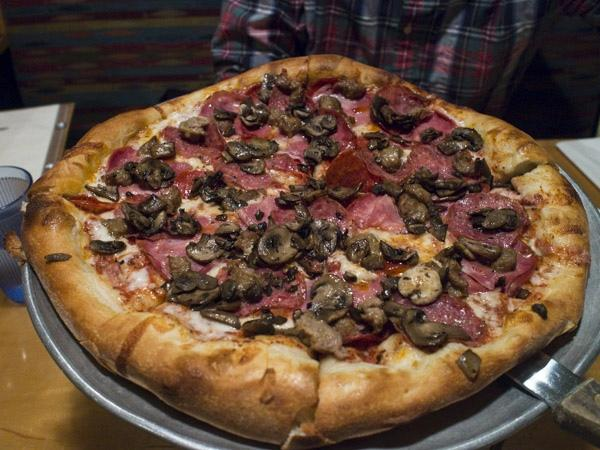mushroom: (382, 302, 468, 348), (295, 312, 351, 360), (419, 246, 467, 293), (309, 274, 352, 318), (398, 266, 442, 306), (370, 95, 416, 132), (258, 225, 298, 264), (407, 166, 464, 193), (167, 286, 220, 312), (456, 236, 503, 265), (186, 233, 226, 262), (312, 220, 340, 260), (397, 193, 431, 225), (380, 239, 420, 266), (167, 208, 203, 238), (294, 115, 337, 138), (240, 96, 270, 128), (125, 161, 154, 191), (200, 309, 241, 330), (456, 348, 481, 382), (374, 146, 404, 174), (178, 116, 209, 143), (239, 138, 279, 158), (332, 78, 366, 101), (451, 127, 483, 151), (376, 273, 401, 302), (328, 182, 364, 202), (481, 208, 517, 228), (402, 184, 432, 208), (257, 74, 279, 106), (242, 320, 276, 340), (286, 205, 312, 231), (230, 266, 256, 292), (142, 209, 167, 236), (142, 158, 163, 190), (451, 151, 476, 177), (102, 168, 136, 187), (100, 216, 128, 238), (200, 185, 236, 202), (358, 231, 383, 255), (477, 157, 494, 192), (274, 68, 301, 90), (85, 184, 118, 202), (226, 141, 253, 162), (436, 140, 468, 156), (89, 240, 127, 253), (204, 170, 228, 190), (150, 142, 176, 160), (303, 146, 326, 166), (220, 278, 239, 302), (239, 158, 266, 174), (427, 224, 448, 243), (382, 179, 404, 197), (264, 273, 287, 290), (213, 107, 238, 122), (420, 127, 443, 143), (280, 191, 307, 203), (215, 222, 240, 234), (532, 304, 548, 318), (136, 215, 150, 227), (206, 298, 221, 308), (366, 139, 378, 151), (216, 239, 226, 246)
